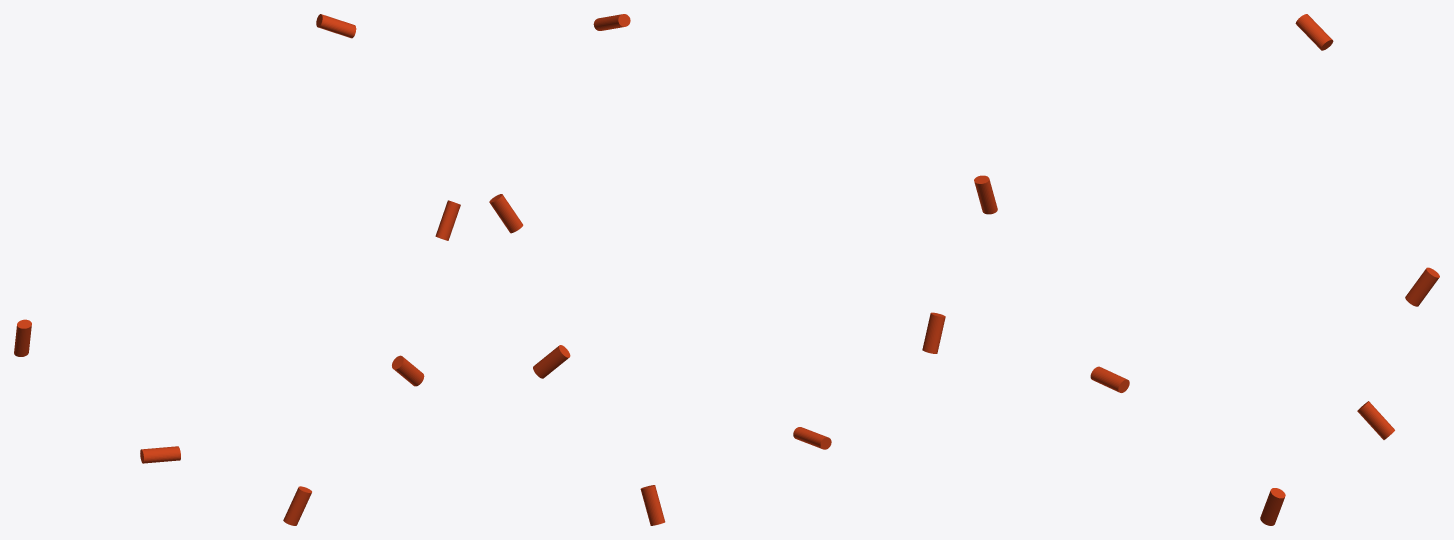
The picture shows the model from 3 angles, left to right: view 1: azimuth 30°, elevation 25°; view 2: azimuth 150°, elevation 25°; view 3: azimuth 330°, elevation 25°; orthographic projection. The views are drawn at different scales.
Bounding box in the file's own units: 0.7861 × 0.8427 × 0.0721.
